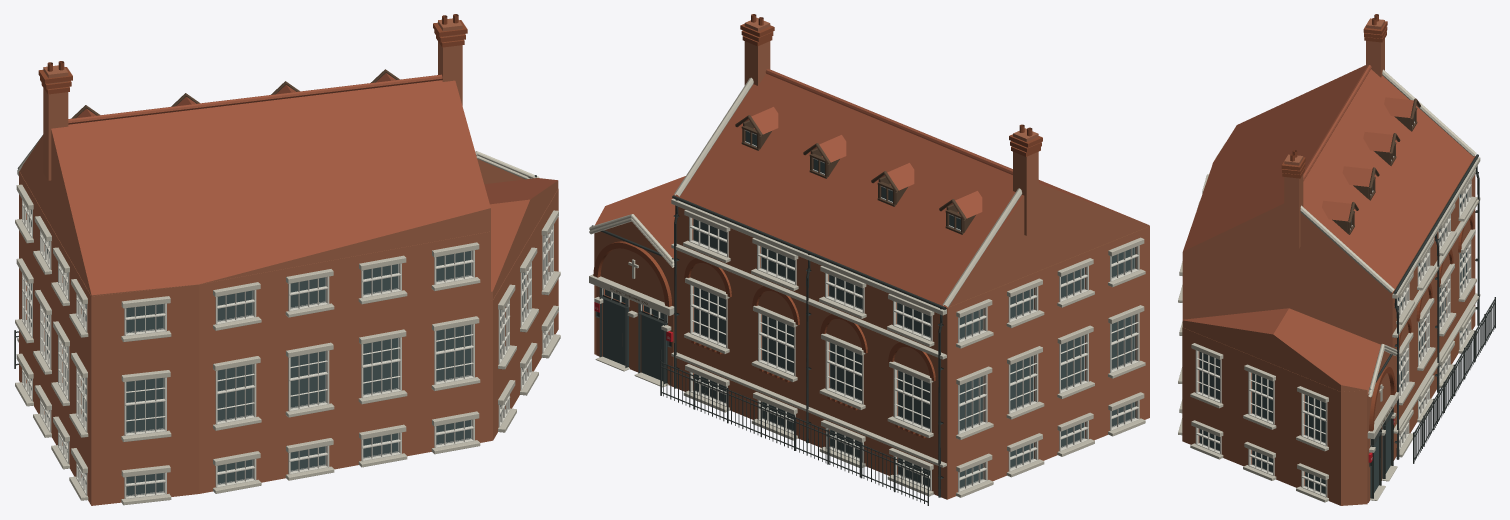
The model's file is par-exterior-ee7837243b96.glb.
3 views of the same model, side by side, from view 1: azimuth 30°, elevation 25°; view 2: azimuth 150°, elevation 25°; view 3: azimuth 270°, elevation 25° (orthographic). The views are drawn at different scales.
Visible parts, largest first — view 1: PAR.001; view 2: PAR.001; view 3: PAR.001.
Boxes of the visible parts, x1,y1,x2,y2 form: PAR.001: [14, 14, 560, 505]; PAR.001: [589, 14, 1149, 505]; PAR.001: [1178, 14, 1495, 505].
Bounding box in the file's own units: 23.48 × 15.52 × 14.92.
